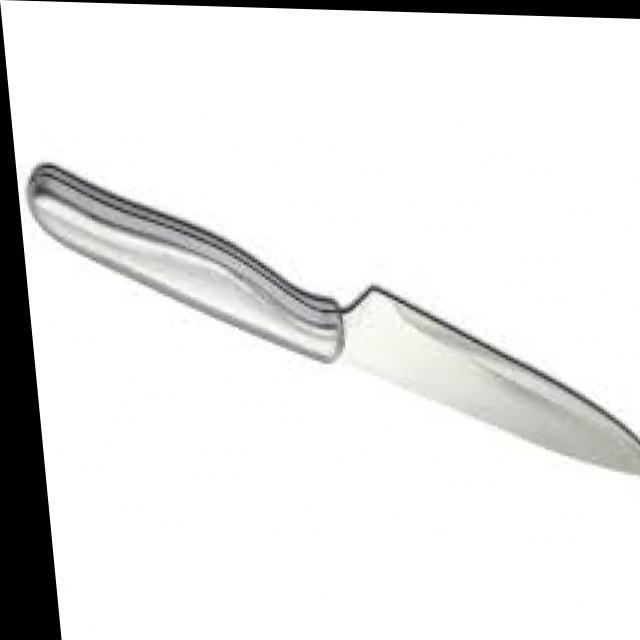knife: (24, 162, 640, 479)
